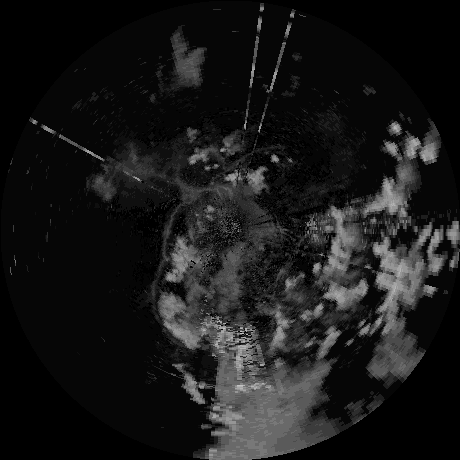frontgust: (150, 201, 184, 309), (213, 146, 283, 180)
